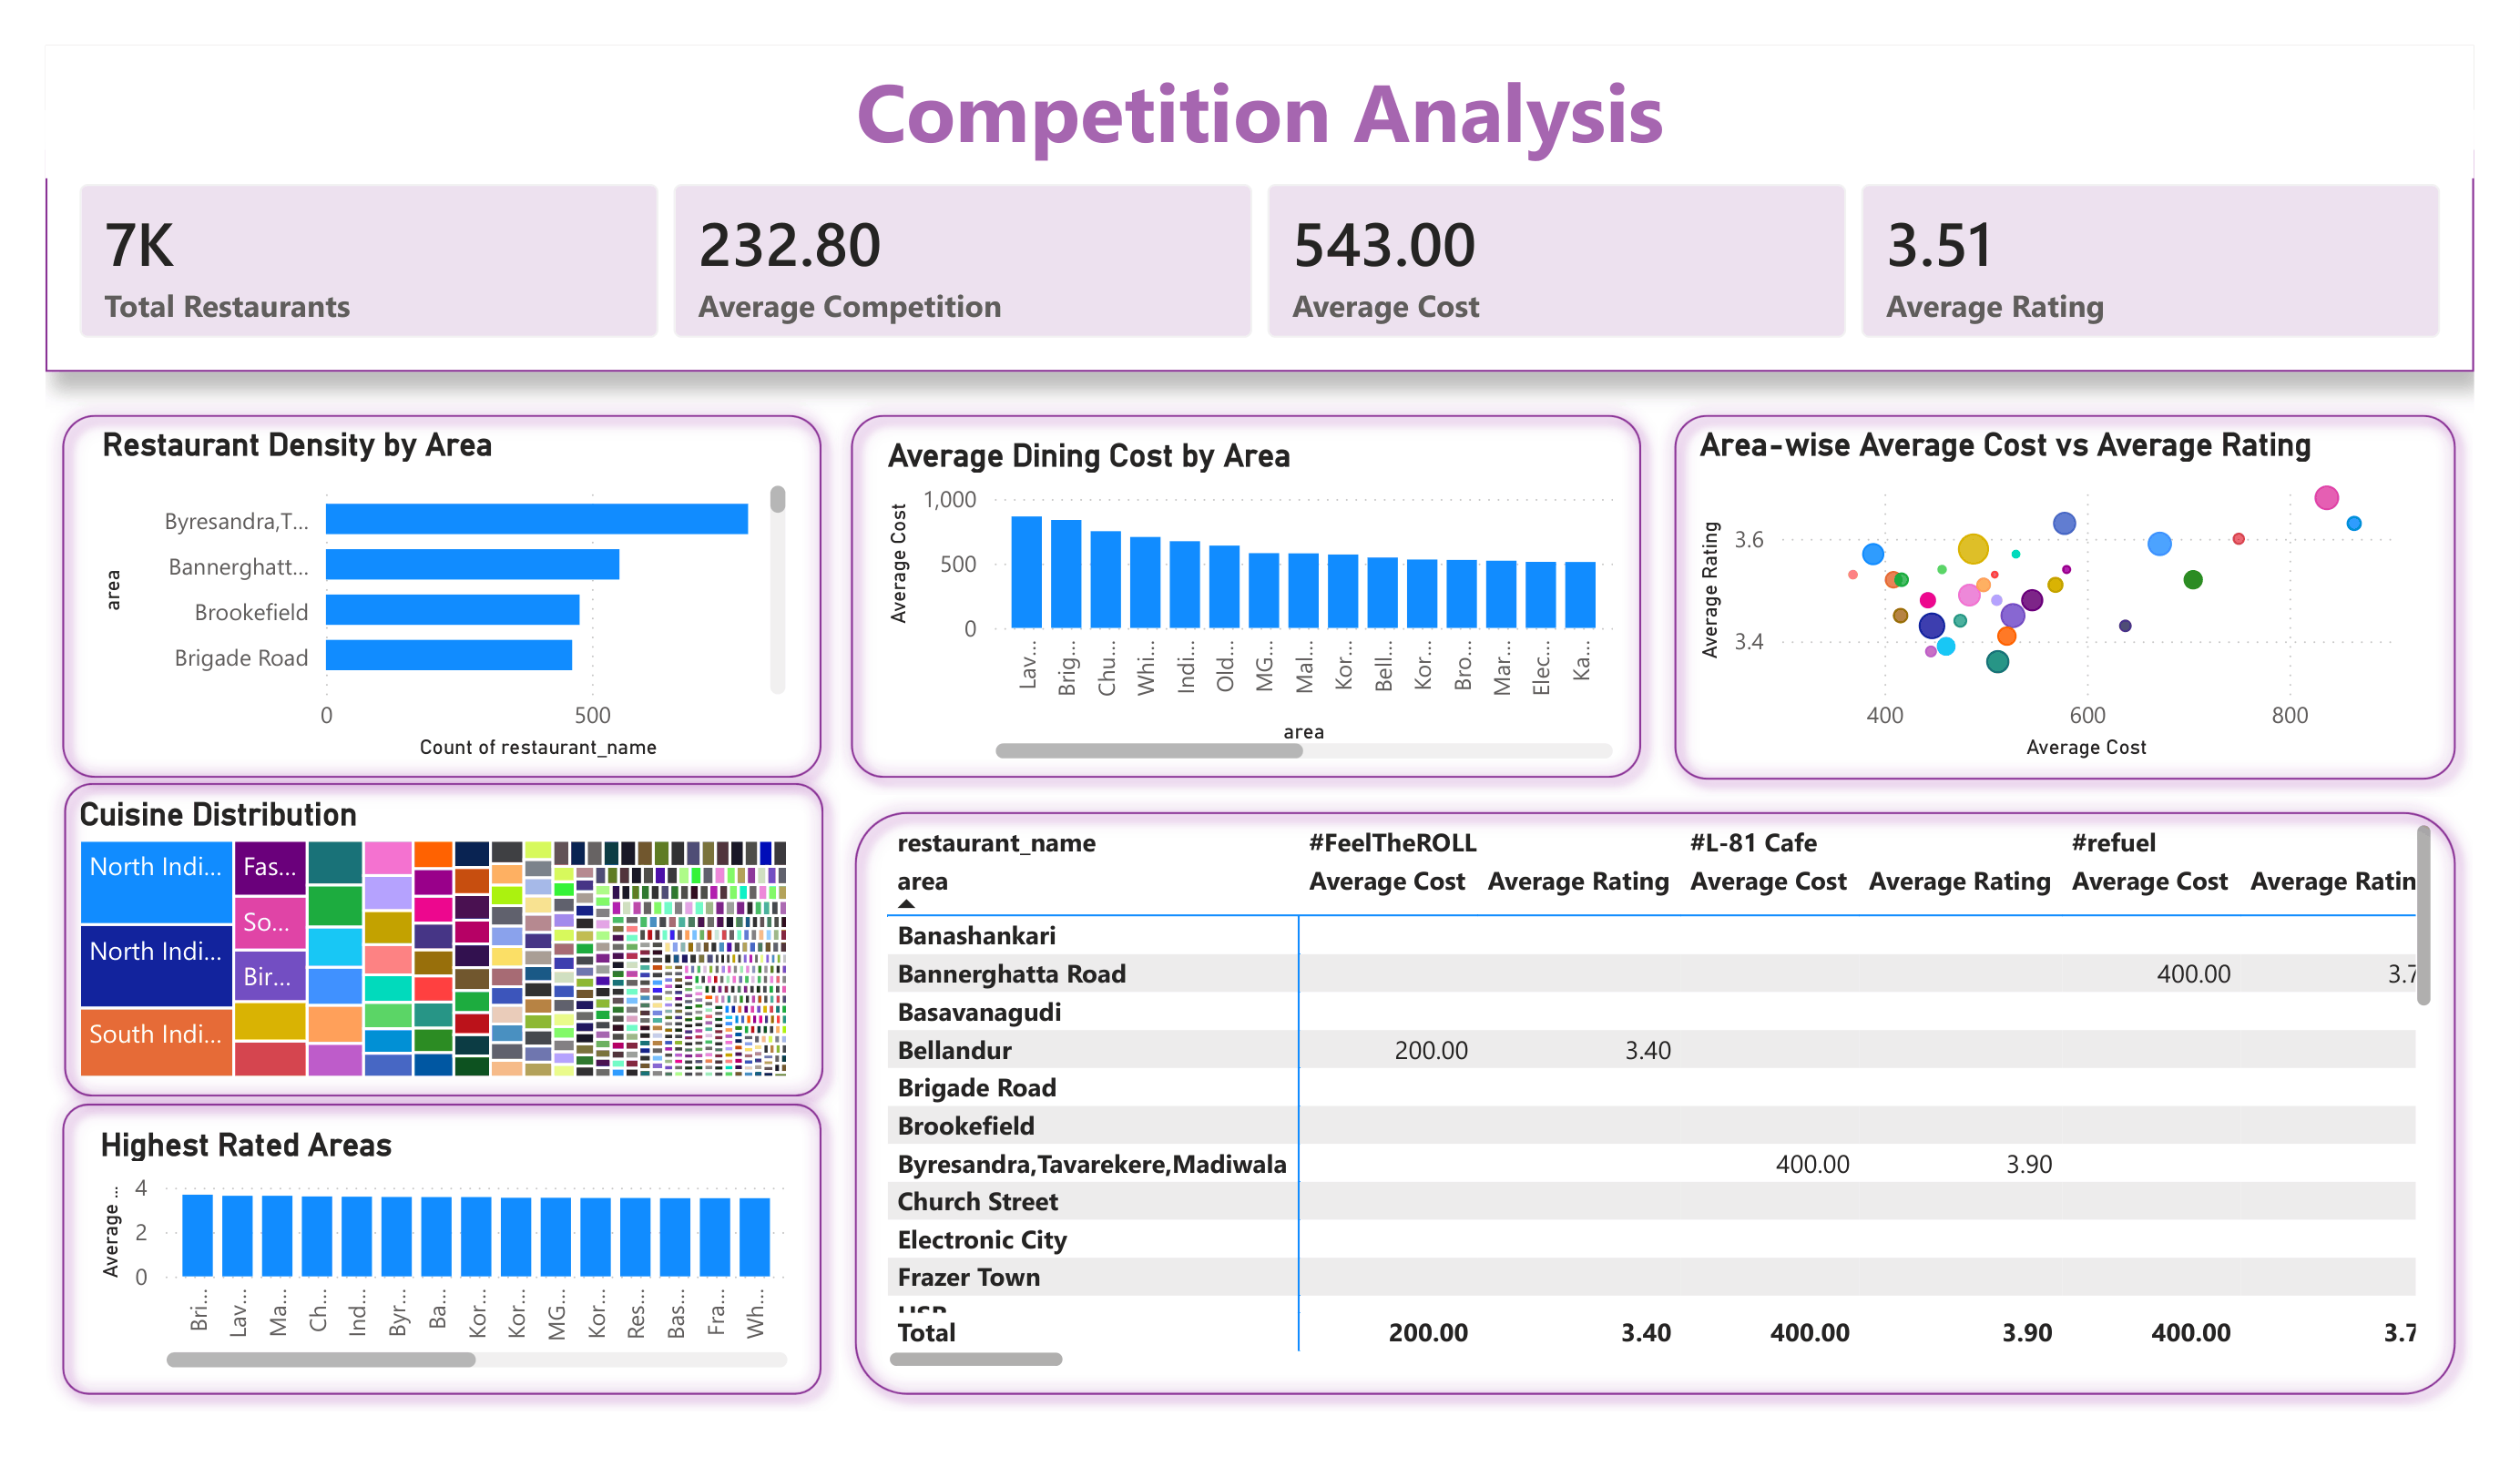

The dashboard page shown, as its layout file describes it:
{"tool":"powerbi","page":{"name":"Competition Analysis","canvas":[1280,720],"ordinal":1},"visuals":[{"type":"cardVisual","fields":{"Data":["public zomato_clean.Total Restaurants","public zomato_clean.Average Competition","public zomato_clean.Average Cost","public zomato_clean.Average Rating"]},"box":[0,55,1280.3,117.4],"z":0},{"type":"clusteredBarChart","title":"Restaurant Density by Area","fields":{"Category":["public zomato_clean.area"],"Y":["CountNonNull(public zomato_clean.restaurant_name)"]},"box":[25.5,200,370,180.9],"z":1000},{"type":"clusteredColumnChart","title":"Highest Rated Areas","fields":{"Category":["public zomato_clean.area"],"Y":["public zomato_clean.Average Rating"]},"box":[24.5,568.6,371.7,133.3],"z":2000},{"type":"clusteredColumnChart","title":"Average Dining Cost by Area","fields":{"Category":["public zomato_clean.area"],"Y":["public zomato_clean.Average Cost"]},"box":[439.1,206.4,391.8,174.5],"z":3000},{"type":"scatterChart","title":"Area-wise Average Cost vs Average Rating","fields":{"X":["public zomato_clean.Average Cost"],"Size":["CountNonNull(public zomato_clean.restaurant_name)"],"Y":["public zomato_clean.Average Rating"],"Series":["public zomato_clean.area"]},"box":[867.3,200,383.6,180.9],"z":4000},{"type":"pivotTable","fields":{"Rows":["public zomato_clean.area"],"Values":["public zomato_clean.Average Cost","public zomato_clean.Average Rating"],"Columns":["public zomato_clean.restaurant_name"]},"box":[439,404.8,824.2,297.1],"z":5000},{"type":"treemap","title":"Cuisine Distribution","fields":{"Group":["public zomato_clean.cuisines_type"],"Values":["CountNonNull(public zomato_clean.restaurant_name)"]},"box":[13.5,395,382.7,154.1],"z":6000},{"type":"textbox","box":[0,0,1280,70],"z":7000},{"type":"shape","box":[0,186.4,418.2,209.1],"z":8000},{"type":"shape","box":[1.2,380.3,418.2,182.2],"z":9000},{"type":"shape","box":[0,549.1,418.2,171.2],"z":10000},{"type":"shape","box":[417.5,395,861.2,325],"z":11000},{"type":"shape","box":[850,186.2,428.8,210],"z":12000},{"type":"shape","box":[415.8,185.9,434.1,209.1],"z":13000}]}

Visuals, with their boxes on the page's 1280x720 design canvas (x1, y1, x2, y2). These are canvas units, not pixel positions in the 2520x1457 screenshot, which may show the page scaled, cropped or inside an application window:
cardVisual - public zomato_clean.Total Restaurants x public zomato_clean.Average Competition: rect(0, 55, 1280, 172)
"Restaurant Density by Area" clusteredBarChart: rect(26, 200, 396, 381)
"Highest Rated Areas" clusteredColumnChart: rect(24, 569, 396, 702)
"Average Dining Cost by Area" clusteredColumnChart: rect(439, 206, 831, 381)
"Area-wise Average Cost vs Average Rating" scatterChart: rect(867, 200, 1251, 381)
pivotTable - public zomato_clean.area x public zomato_clean.Average Cost: rect(439, 405, 1263, 702)
"Cuisine Distribution" treemap: rect(14, 395, 396, 549)
textbox: rect(0, 0, 1280, 70)
shape: rect(0, 186, 418, 396)
shape: rect(1, 380, 419, 562)
shape: rect(0, 549, 418, 720)
shape: rect(418, 395, 1279, 720)
shape: rect(850, 186, 1279, 396)
shape: rect(416, 186, 850, 395)
